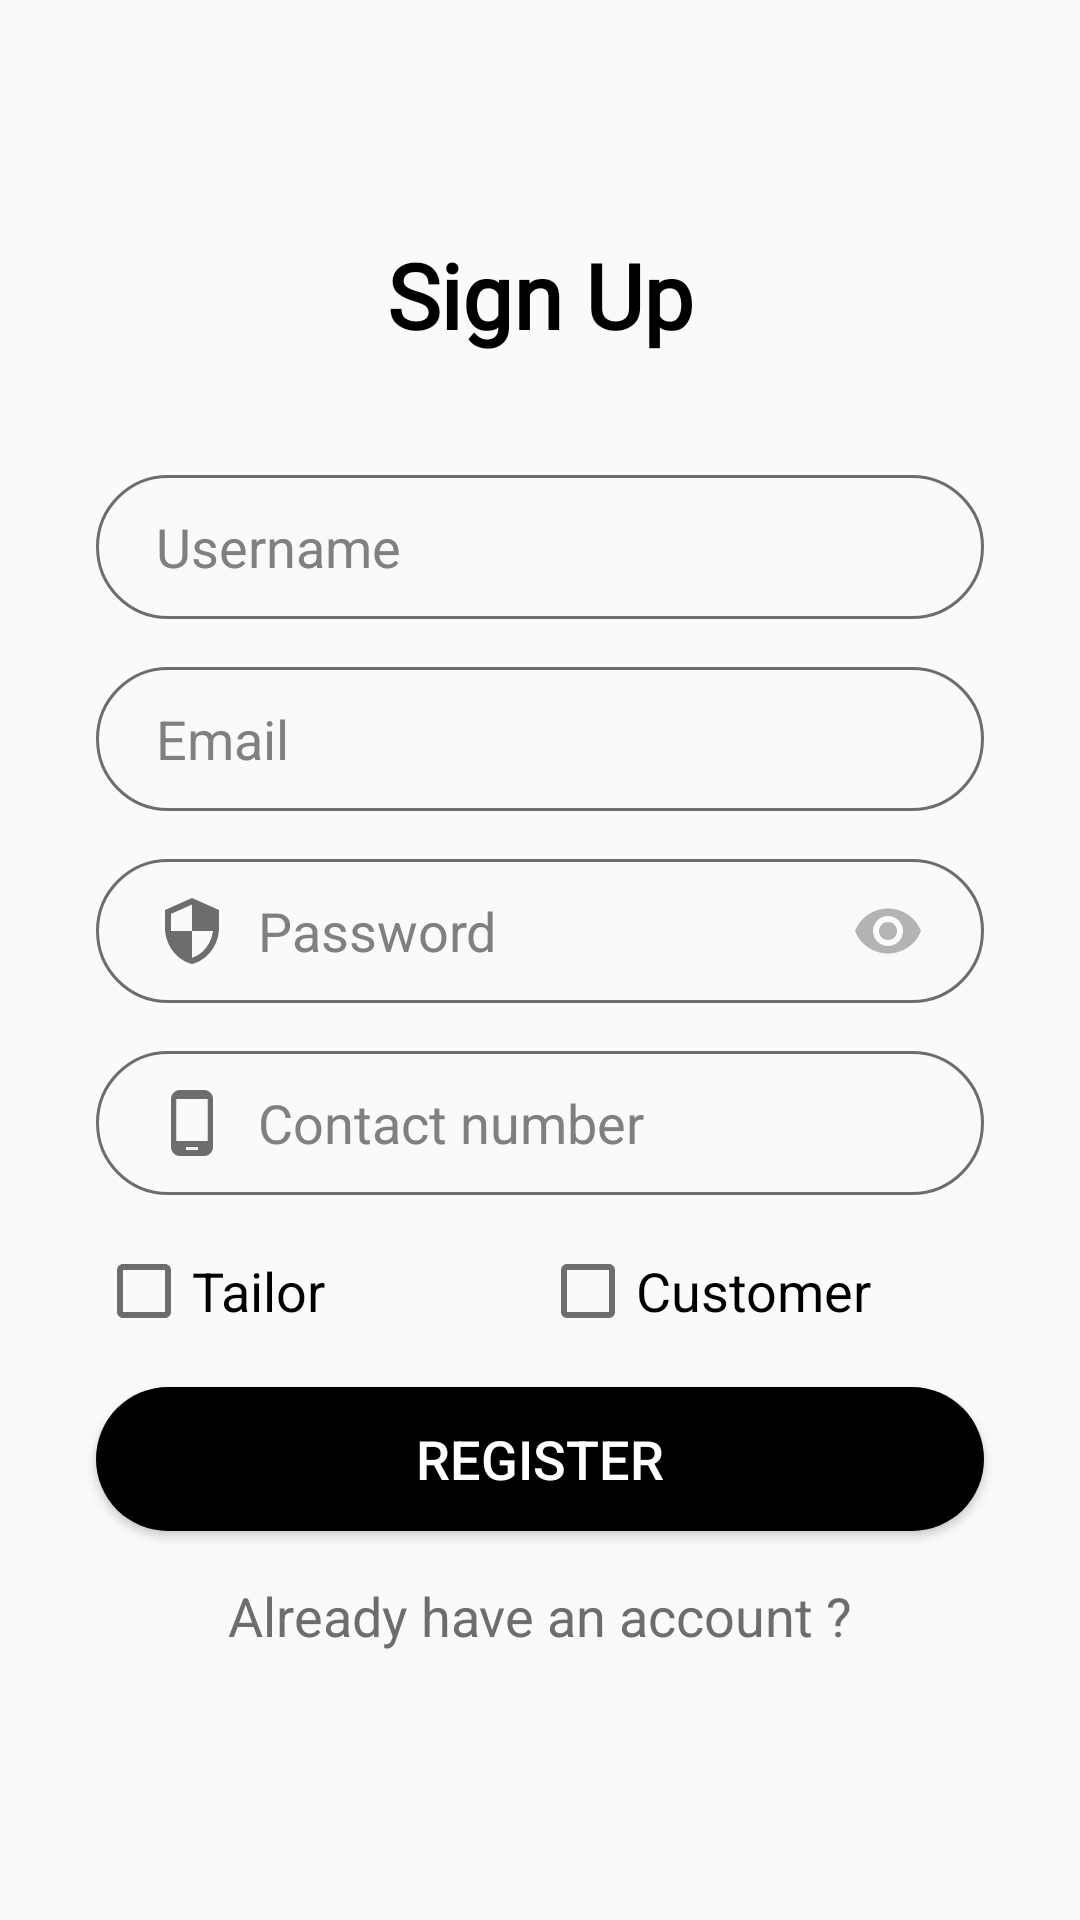

Named icons in this screenshot (1080w x 1920h) and their centers, (x=x, y=y):
visibility: (x=888, y=931)
